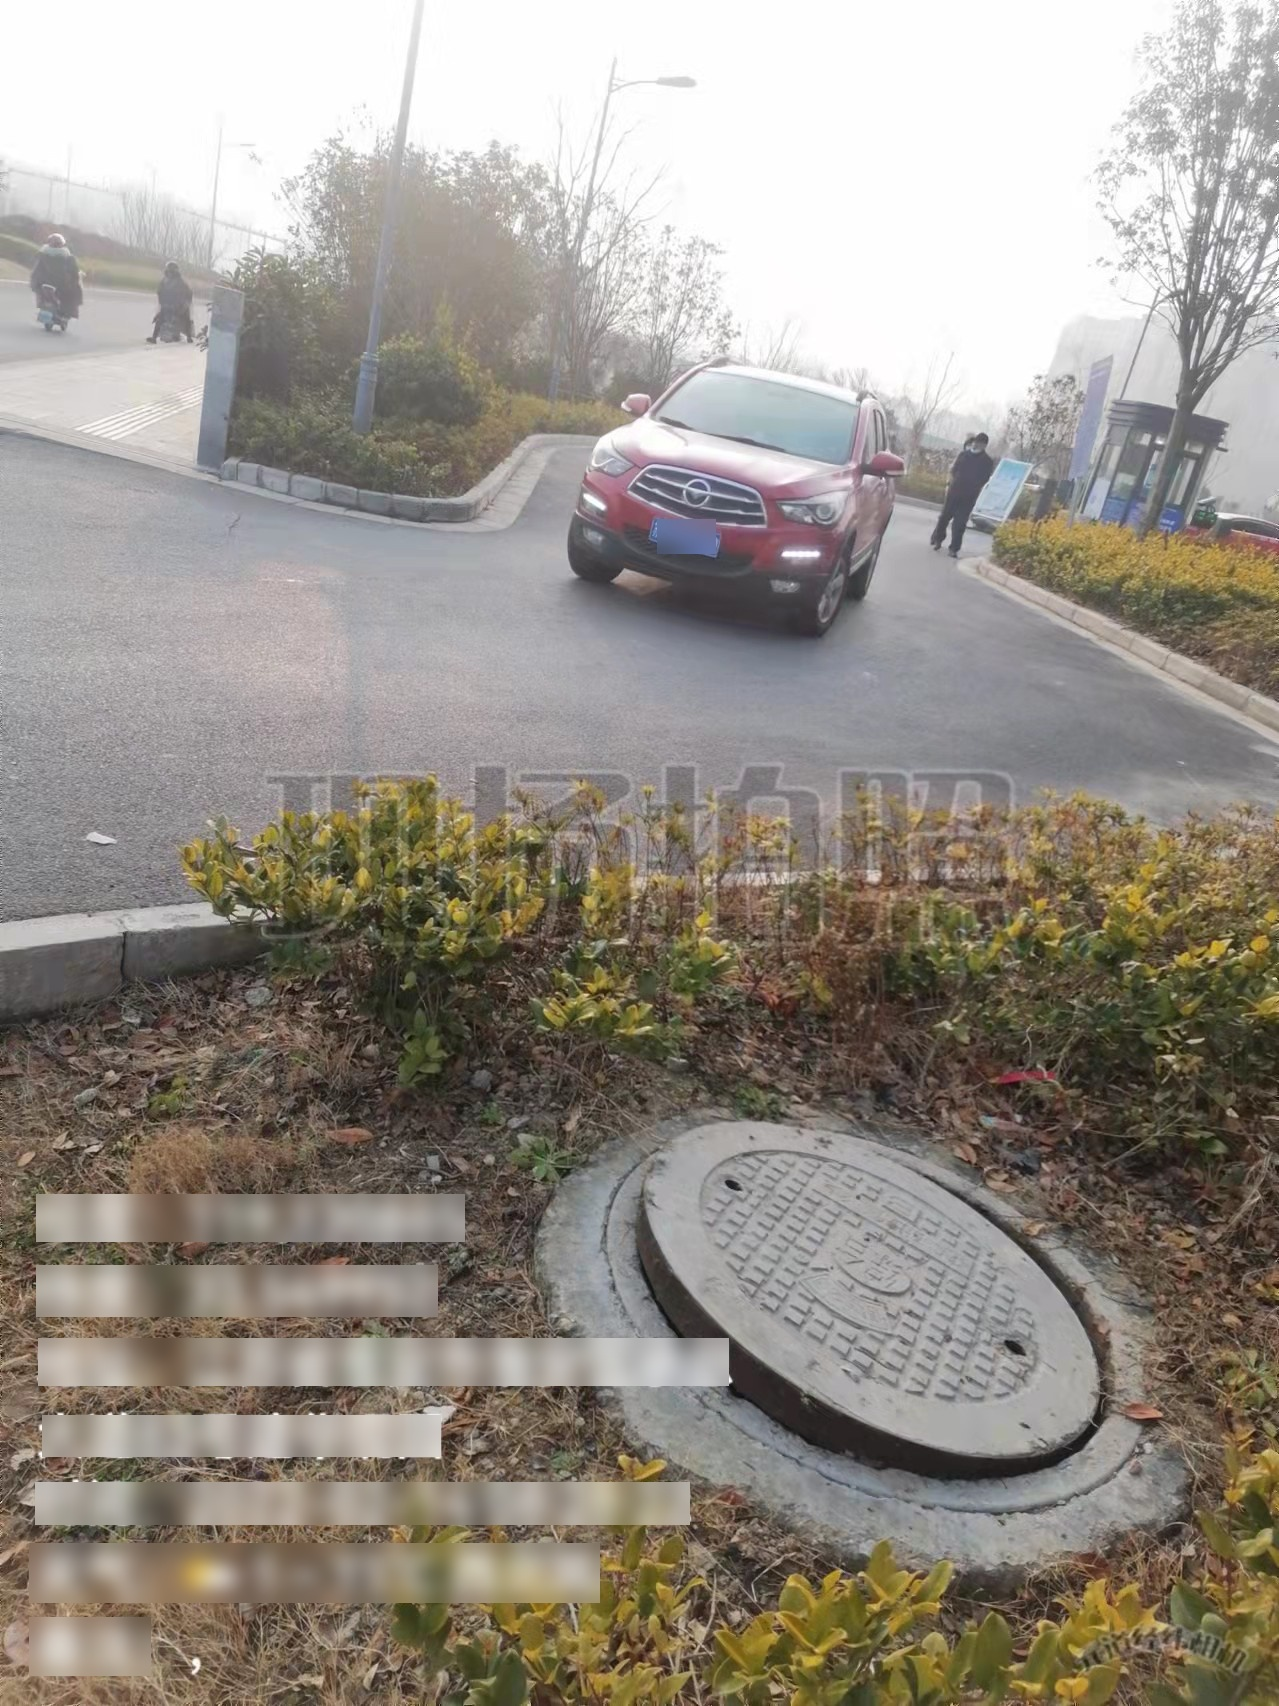uncovered: (592, 1110, 1150, 1519)
